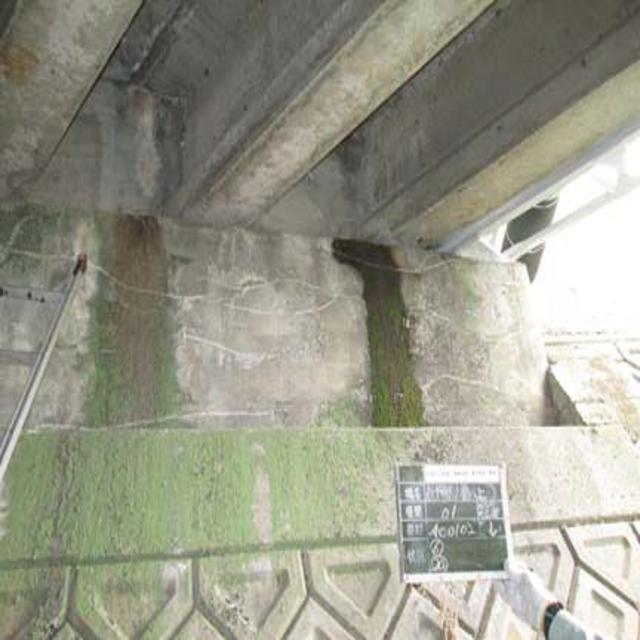leakage: (76, 212, 200, 428), (326, 224, 430, 432)
